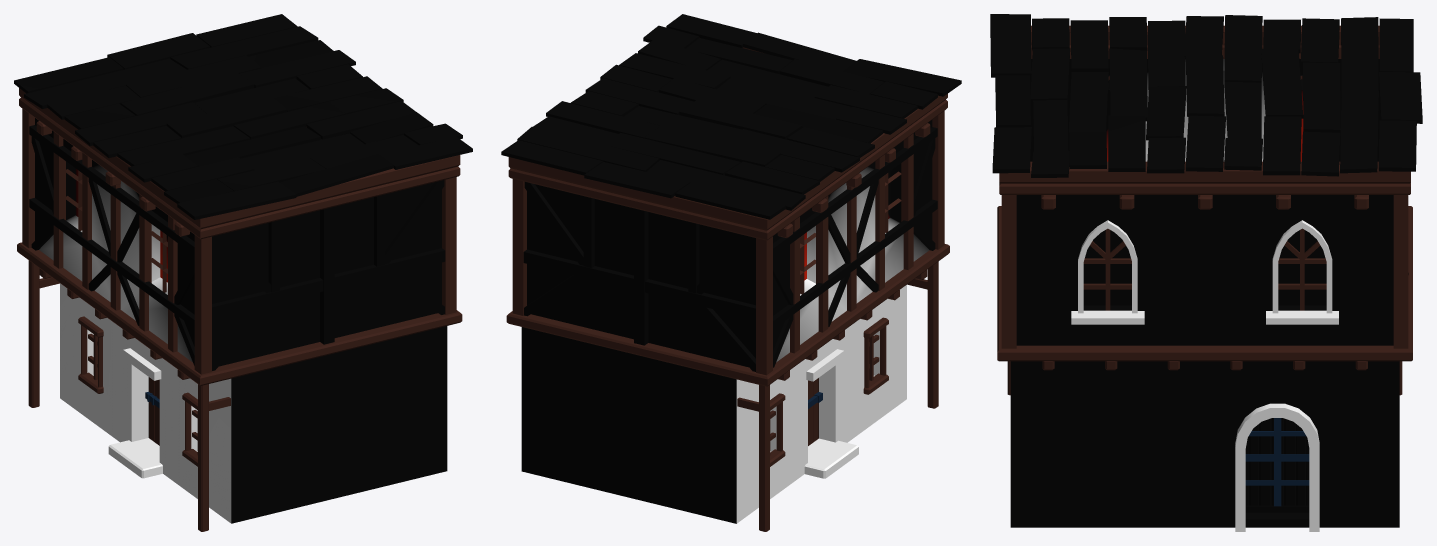
File: civilian_house_37_c.FBX
The picture shows the model from 3 angles, left to right: view 1: azimuth 30°, elevation 25°; view 2: azimuth 150°, elevation 25°; view 3: azimuth 270°, elevation 25°; orthographic projection. The views are drawn at different scales.
Visible parts, largest first — view 1: civilian_house_37_c; view 2: civilian_house_37_c; view 3: civilian_house_37_c.
Boxes of the visible parts, bbox=[...] form: civilian_house_37_c: bbox=[14, 14, 472, 531]; civilian_house_37_c: bbox=[501, 14, 961, 531]; civilian_house_37_c: bbox=[990, 14, 1422, 531].
Size of the model in its own units: 679 by 734 by 778.
